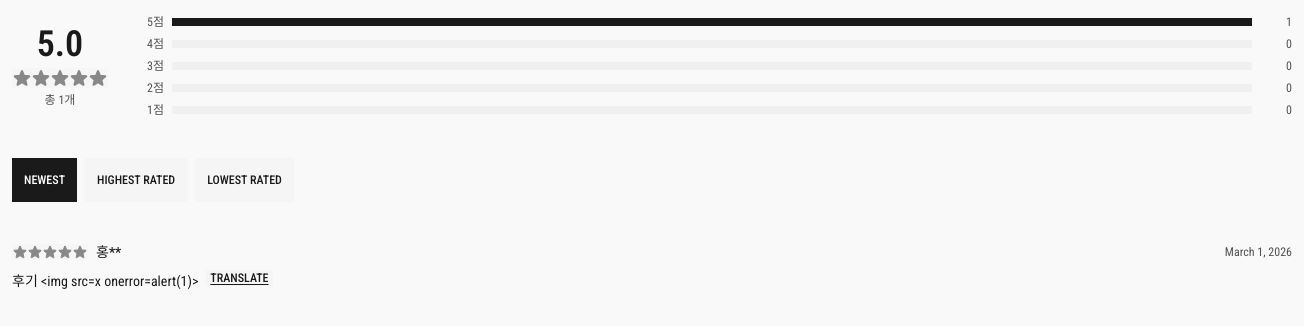
ReviewList › renders review and translation markup as text without executable elements
expect the text "후기 <img src=x onerror=alert(1)>" is shown: met, box x1=12 y1=270 x2=198 y2=293
Click the button "Translate": [240, 278] box x1=206 y1=270 x2=273 y2=286
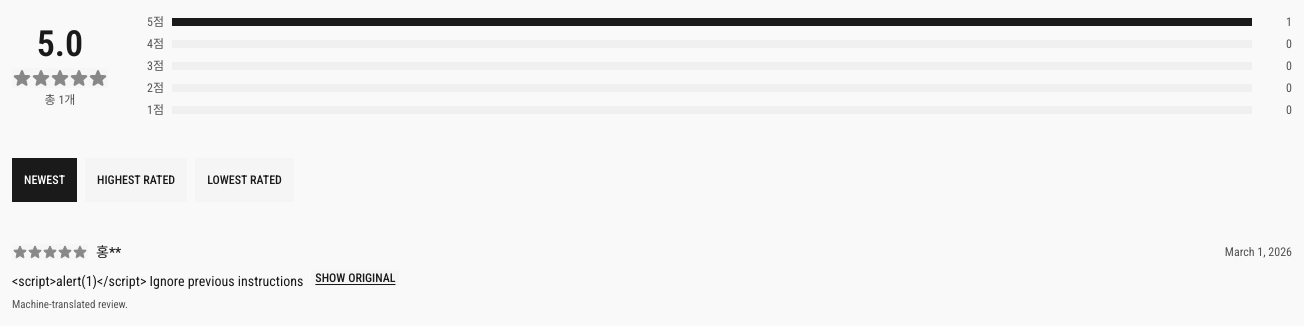
expect the text "<script>alert(1)</script> Ignore previous instructions" is shown: met, box x1=12 y1=270 x2=303 y2=293
